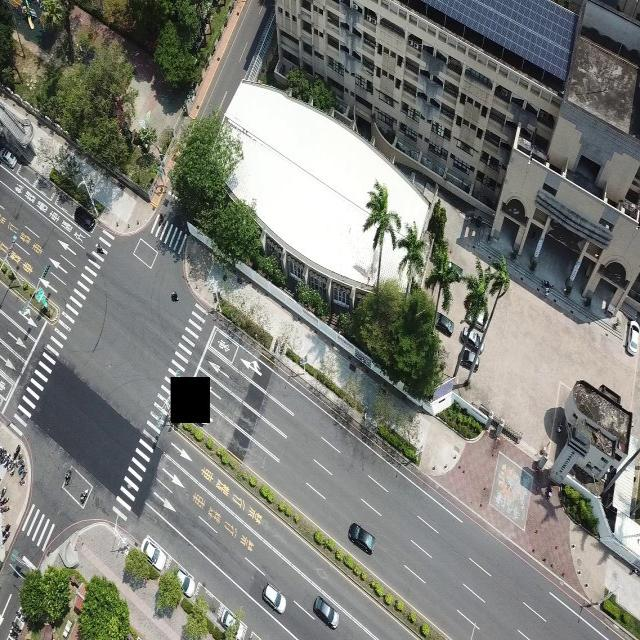bike: (64, 465, 73, 486), (80, 488, 88, 504)
car: (216, 604, 247, 639), (142, 527, 164, 572), (312, 595, 339, 629), (348, 522, 375, 555), (262, 583, 286, 614), (175, 561, 191, 600), (629, 309, 640, 359), (74, 205, 95, 231), (461, 326, 484, 348), (442, 254, 462, 278), (435, 311, 454, 336), (459, 353, 482, 371), (0, 147, 17, 169)
